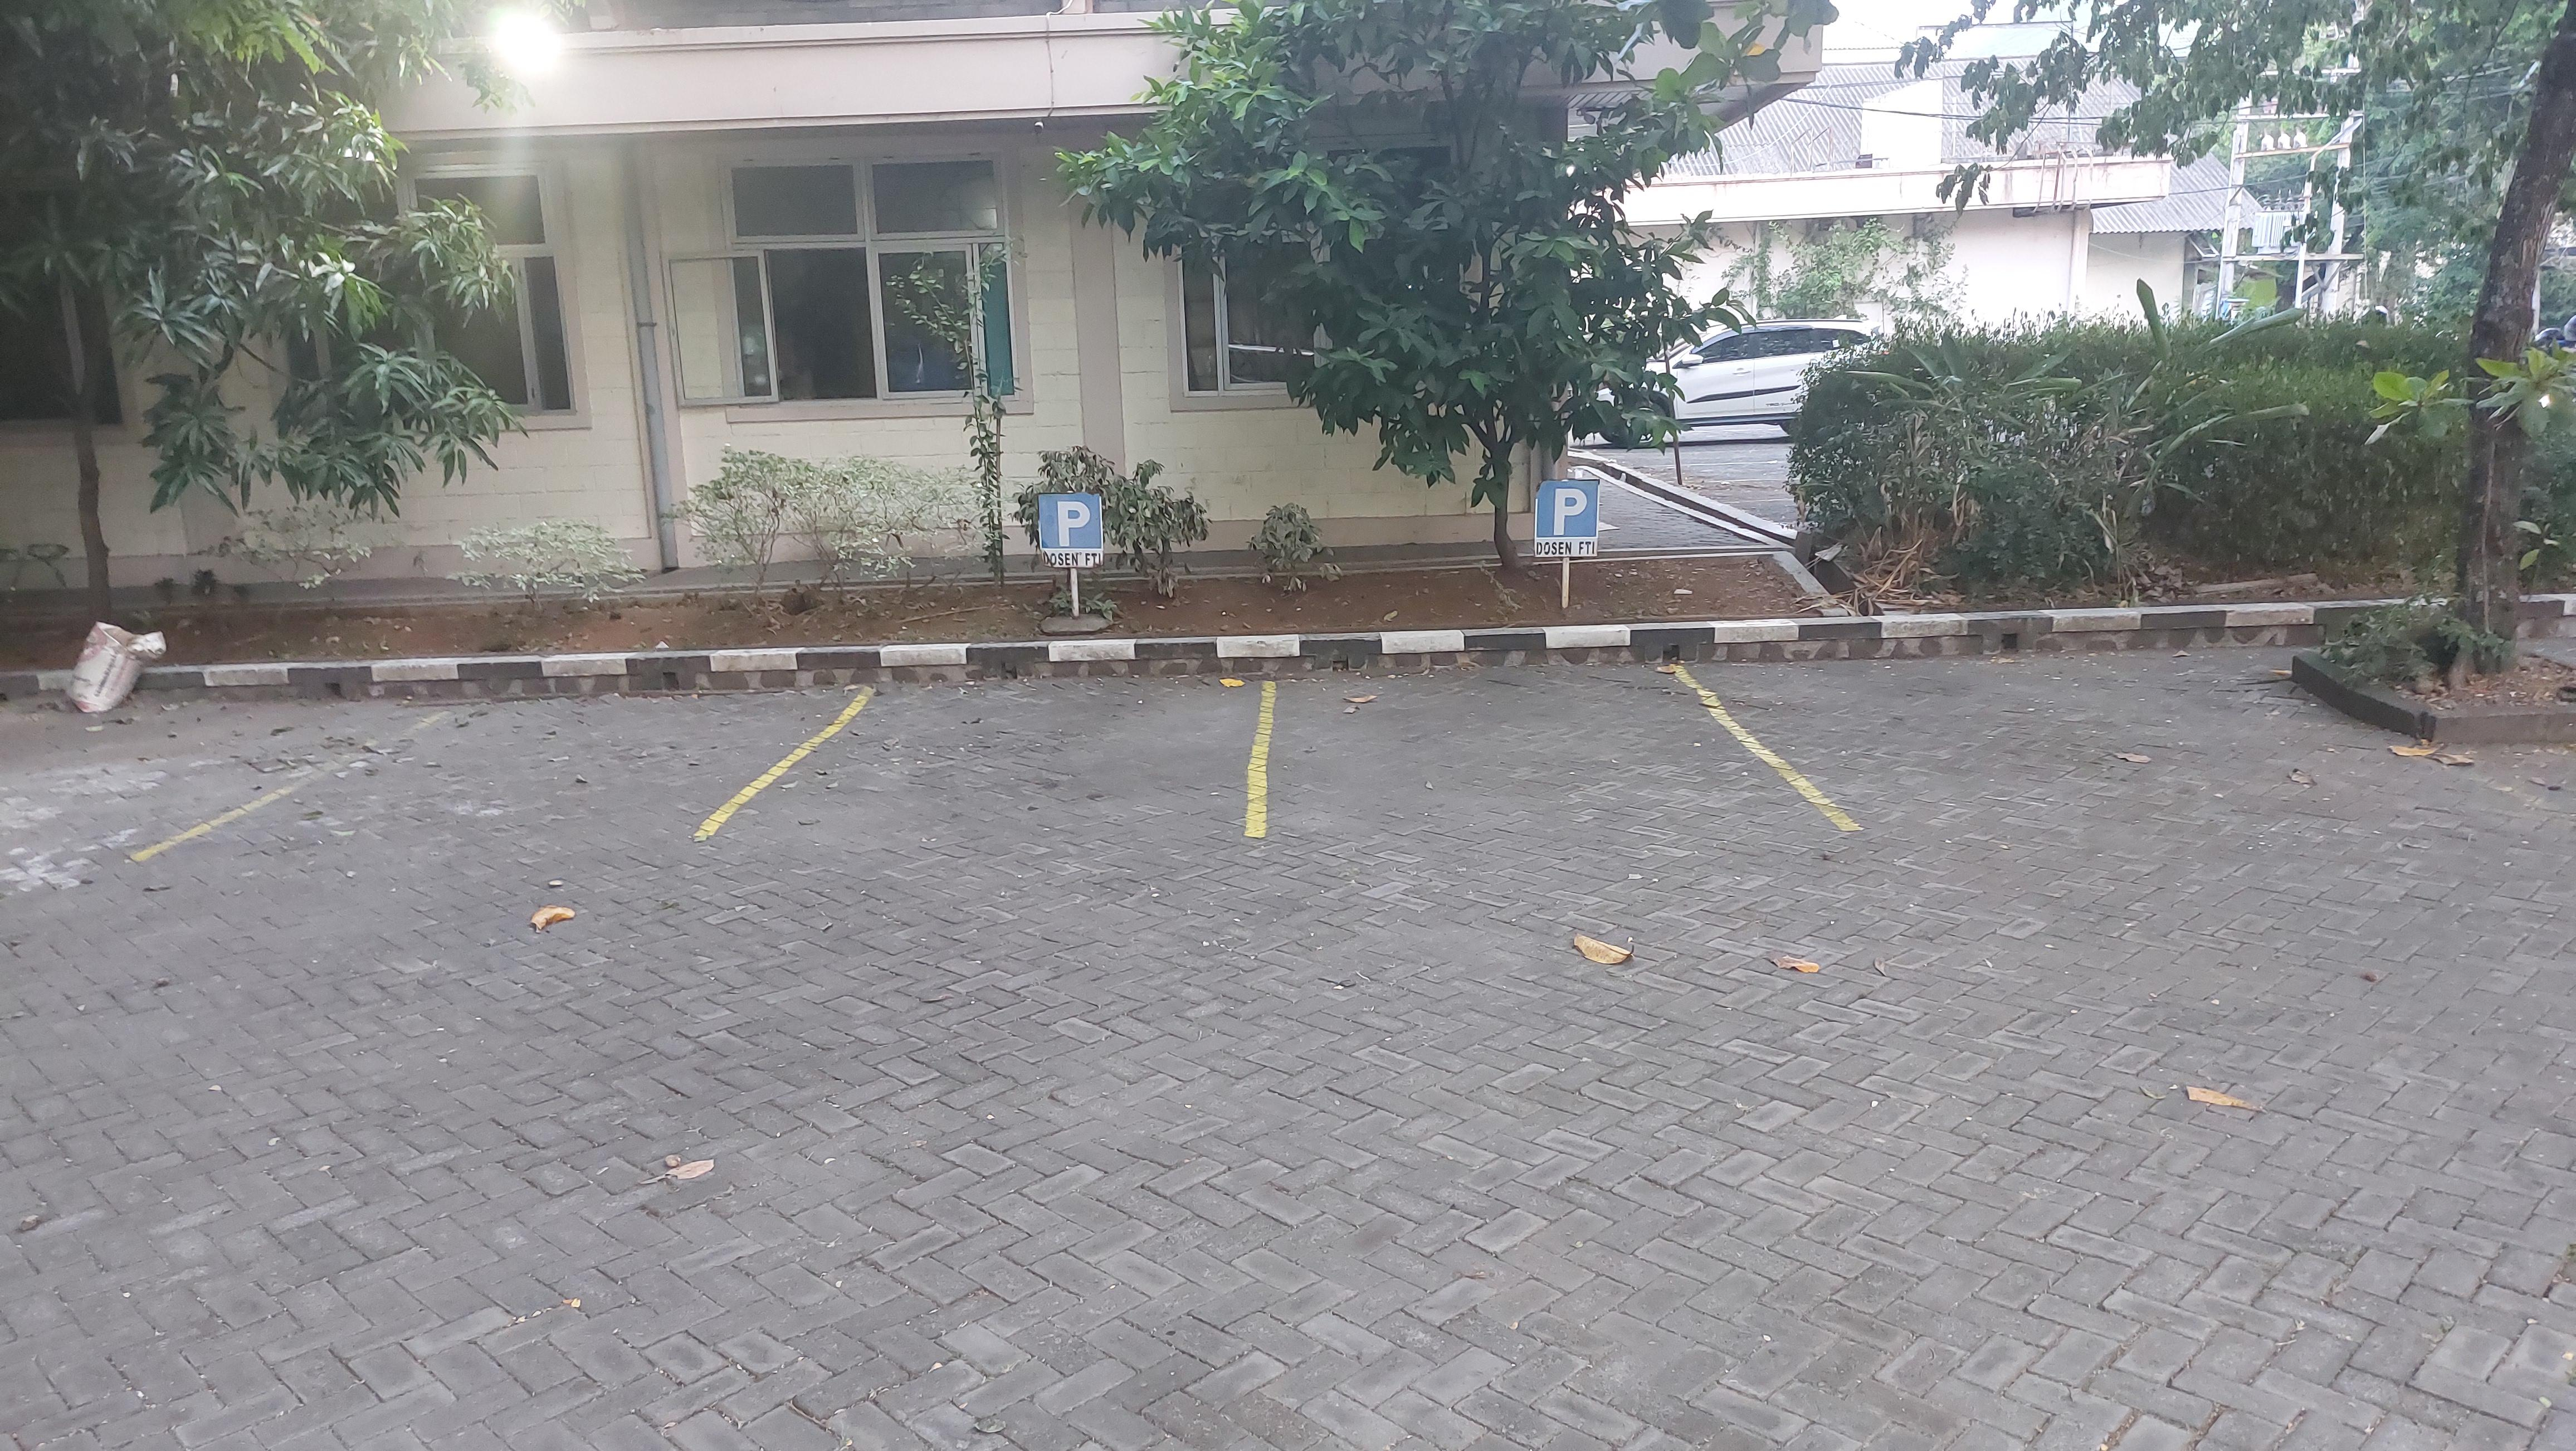empty: (1680, 637, 2557, 835), (145, 693, 865, 846), (1255, 670, 1853, 827), (709, 675, 1271, 835)
